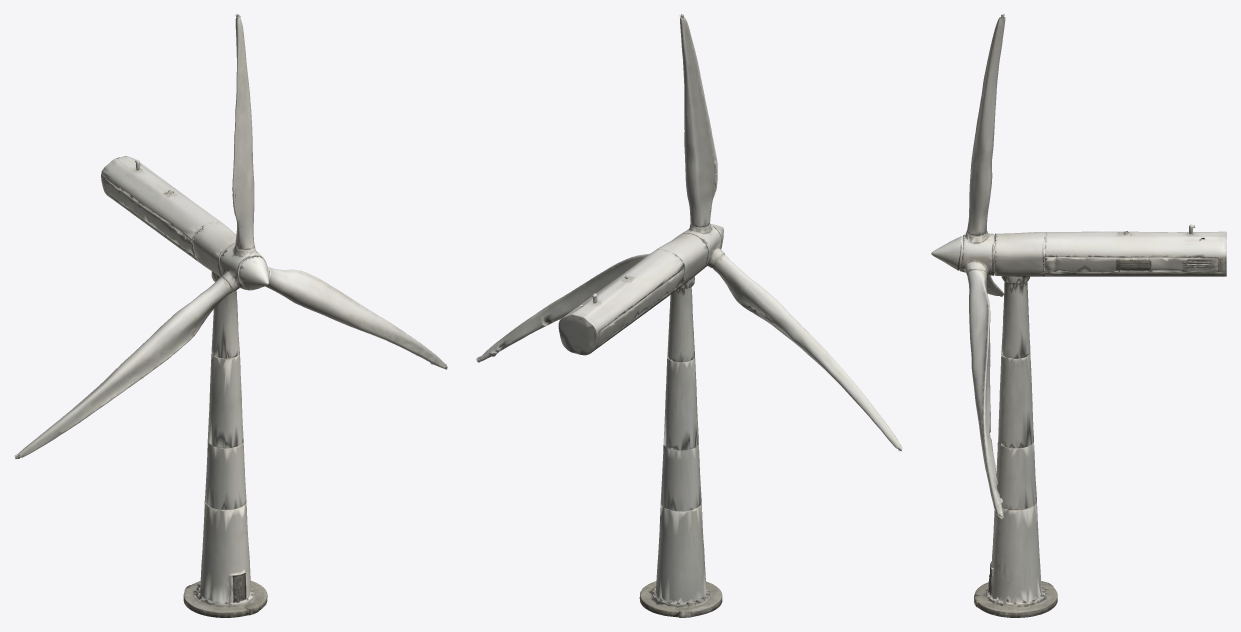
File: brikme-turbine.glb
3 views of the same model, side by side, from view 1: azimuth 30°, elevation 25°; view 2: azimuth 150°, elevation 25°; view 3: azimuth 270°, elevation 25° (orthographic).
Visible parts, largest first — view 1: car; view 2: car; view 3: car.
Part boxes in pixels (x1,y1,x2,y2): car: (14, 14, 447, 617); car: (476, 14, 902, 617); car: (931, 14, 1226, 617).
Bounding box in the file's own units: 0.7546 × 0.9829 × 0.4463.
Materials: 1 (1 with a texture image).
